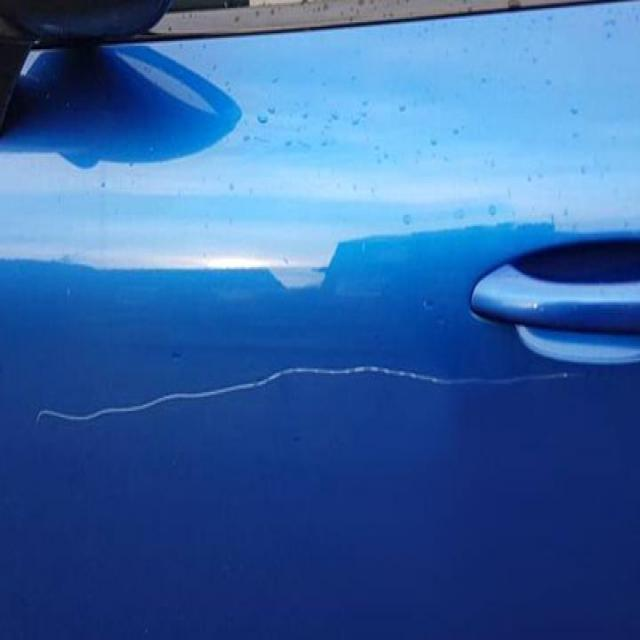scratch: (24, 347, 576, 459)
